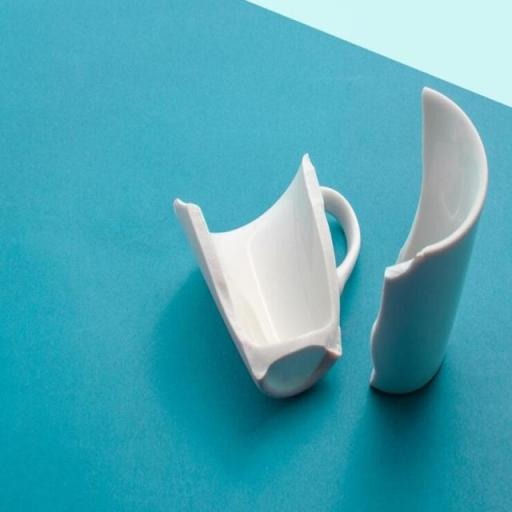glass: (172, 147, 358, 397), (365, 86, 489, 393)
